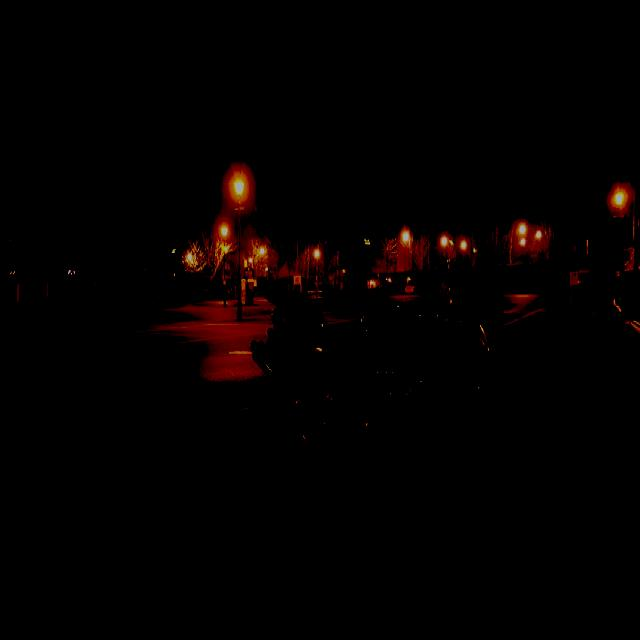Motorbike: (243, 290, 507, 499)
